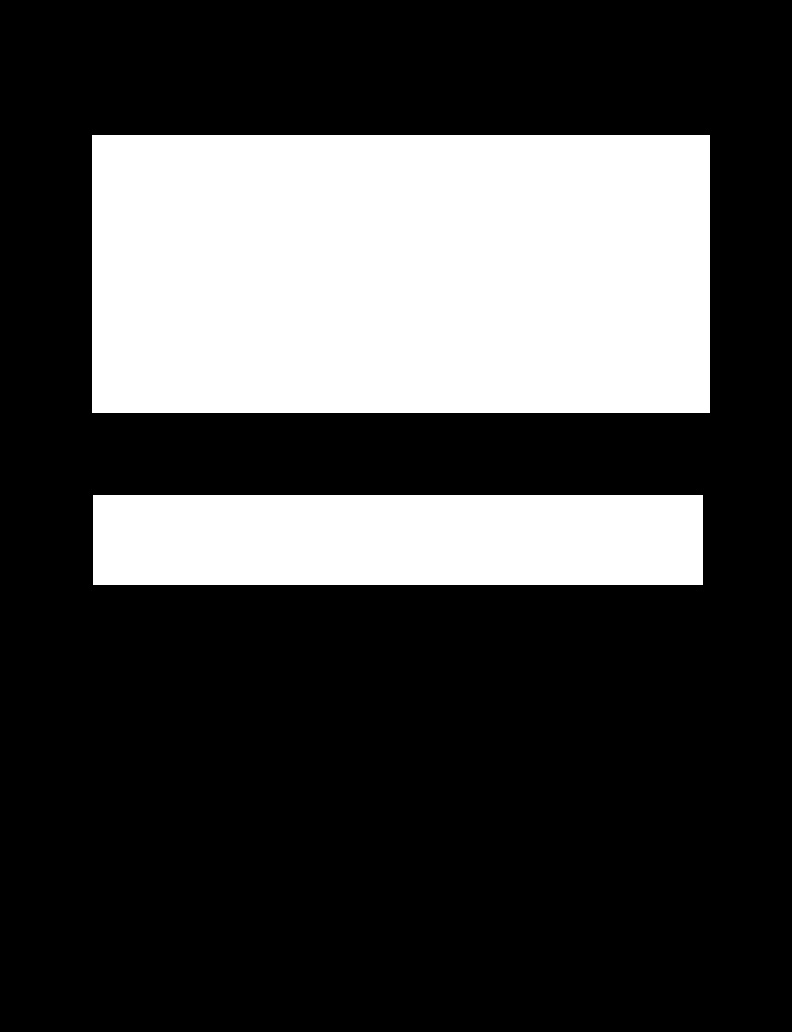table: (92, 135, 709, 412), (93, 495, 702, 584)
